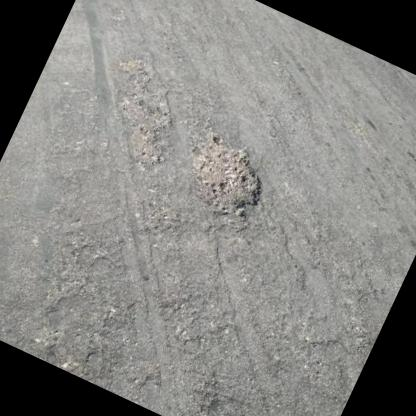pothole: (81, 51, 199, 174), (169, 123, 281, 230)
